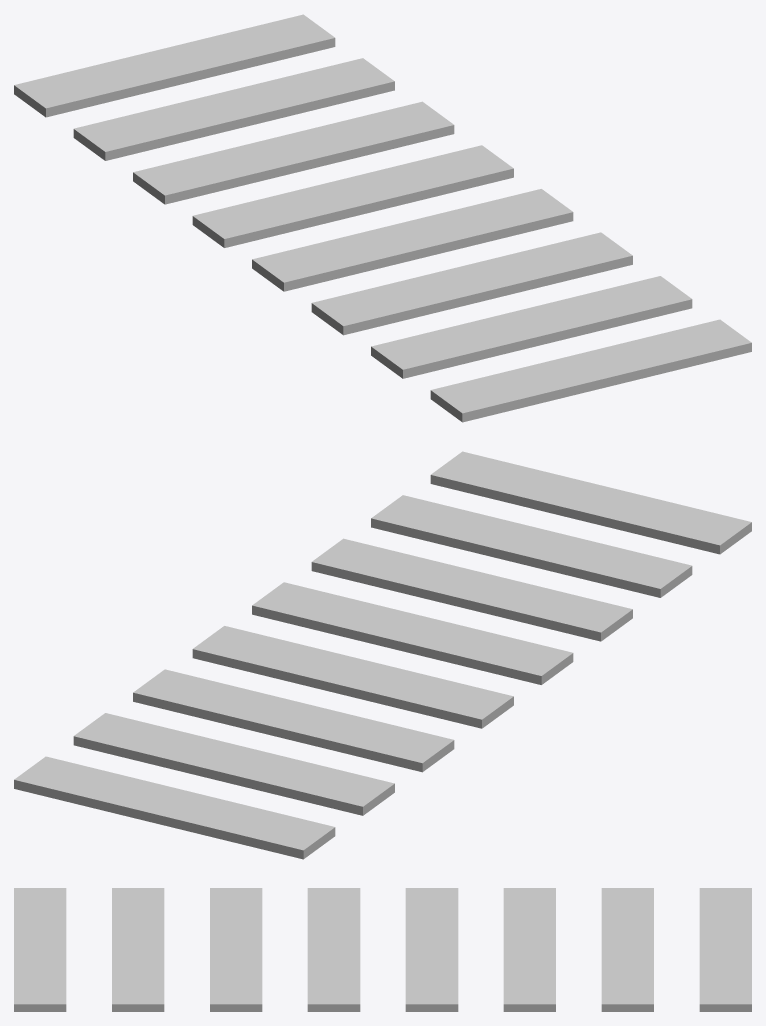
The model's file is TB_CITY_Prop_Crosswalk.FBX.
The picture shows the model from 3 angles, top to bottom: view 1: azimuth 30°, elevation 25°; view 2: azimuth 150°, elevation 25°; view 3: azimuth 270°, elevation 25°; orthographic projection. The views are drawn at different scales.
Visible parts, largest first — view 1: TB_CITY_Prop_Crosswalk; view 2: TB_CITY_Prop_Crosswalk; view 3: TB_CITY_Prop_Crosswalk.
Part boxes in pixels (box(x1,y1,x2,y2)): TB_CITY_Prop_Crosswalk: box(14, 14, 751, 422); TB_CITY_Prop_Crosswalk: box(14, 451, 751, 859); TB_CITY_Prop_Crosswalk: box(14, 888, 751, 1011).
Bounding box in the file's own units: 3.33 × 0.1 × 8.94.
